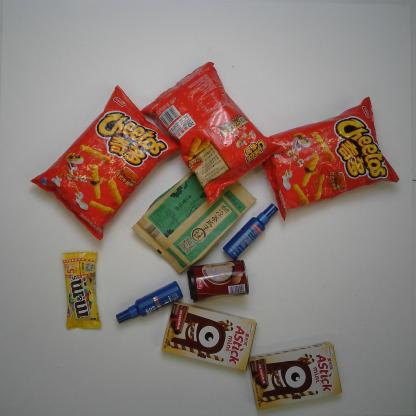Canned Food: (186, 259, 250, 304)
Chocolate: (60, 250, 104, 333)
Dessert: (242, 338, 346, 412), (159, 298, 260, 373)
Dried Food: (130, 164, 260, 276)
Personal Hygiene: (221, 202, 280, 262), (113, 278, 186, 326)
Puffed Food: (27, 82, 179, 244), (136, 60, 286, 208), (256, 95, 406, 222)
